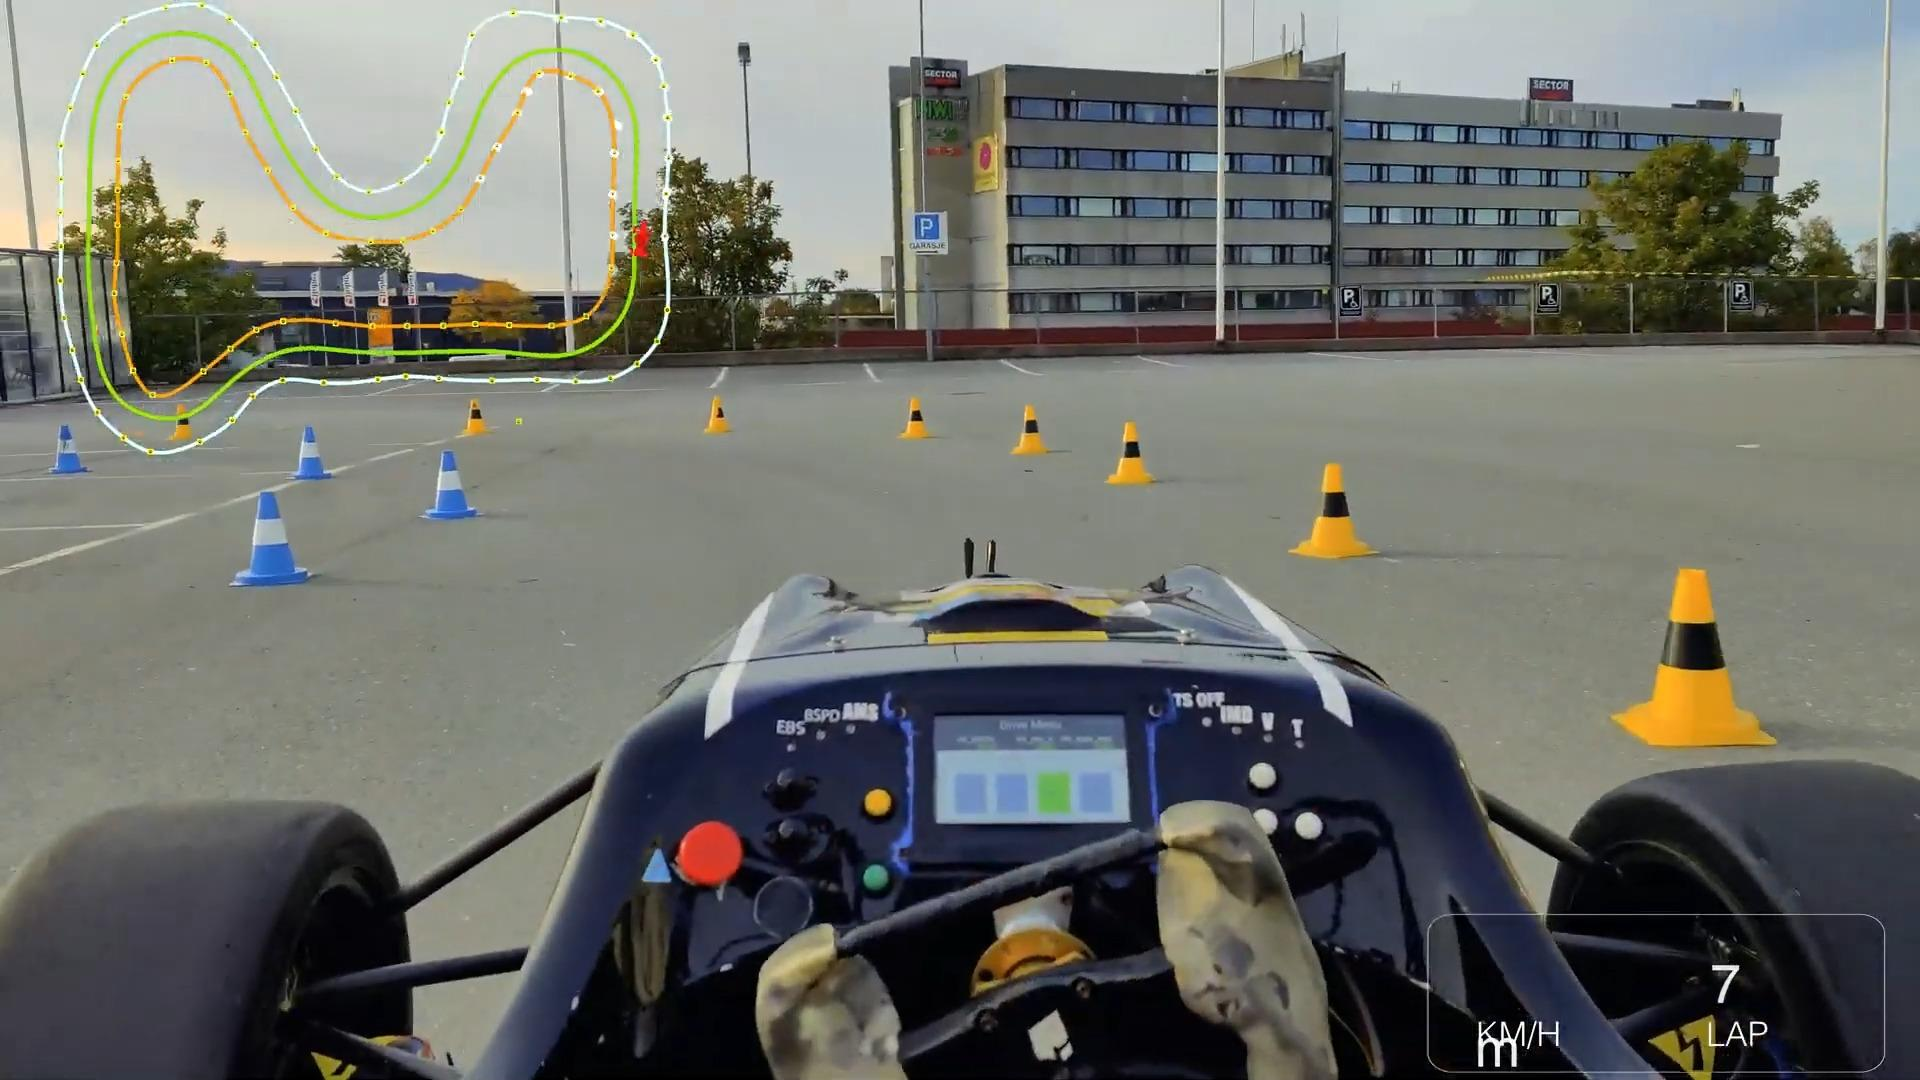blue_cone: (233, 488, 306, 595), (425, 452, 479, 522), (293, 422, 334, 481), (54, 423, 87, 476)
yellow_cone: (1623, 567, 1759, 742), (1292, 462, 1373, 562), (1106, 425, 1155, 488), (1011, 405, 1052, 459), (165, 404, 198, 446), (703, 394, 733, 438), (460, 400, 493, 436), (901, 401, 932, 438)
